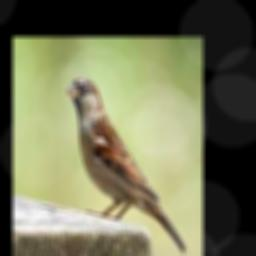Sparrow: (66, 79, 188, 253)
